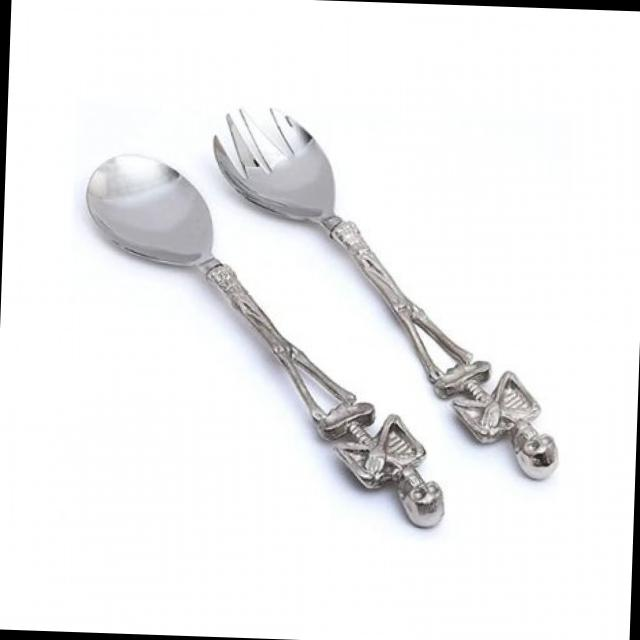fork: (190, 99, 576, 492)
spoon: (68, 141, 455, 545)
